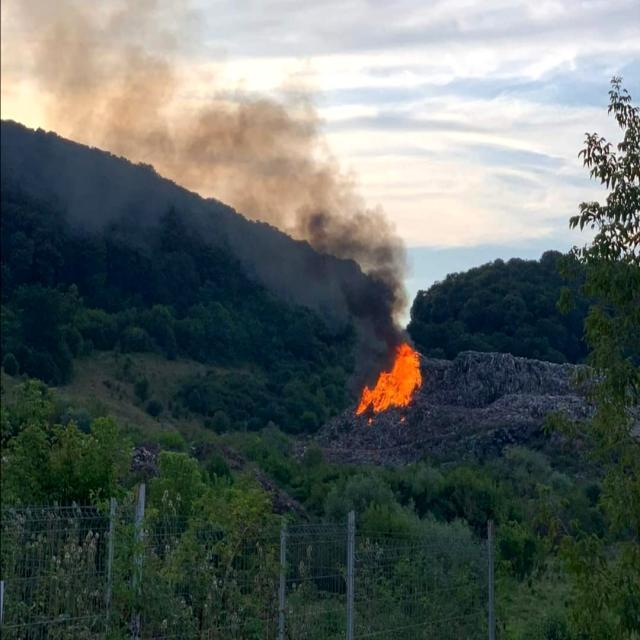Fire: (351, 338, 425, 418)
Smoke: (56, 24, 410, 326)
